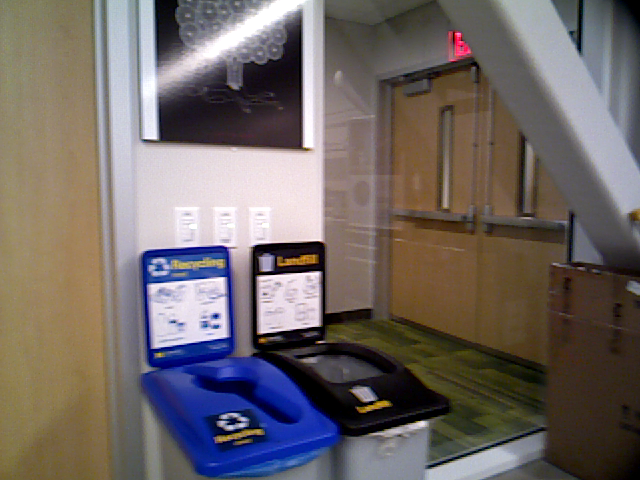painting1: (137, 1, 318, 148)
